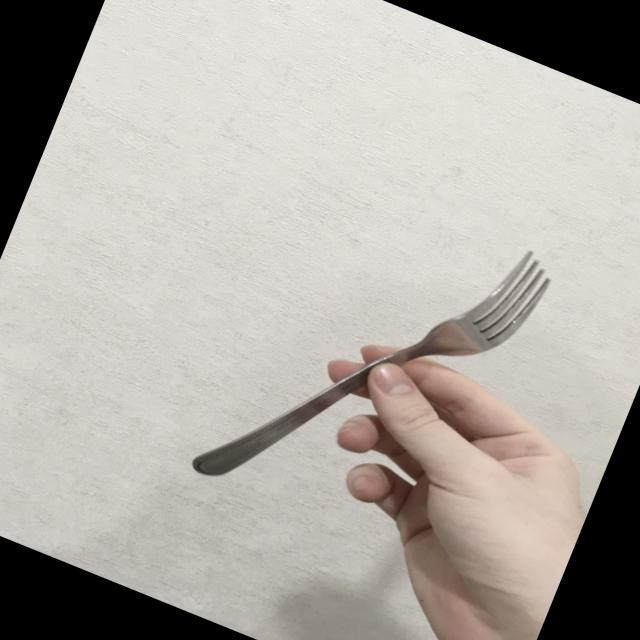fork: (188, 162, 560, 570)
